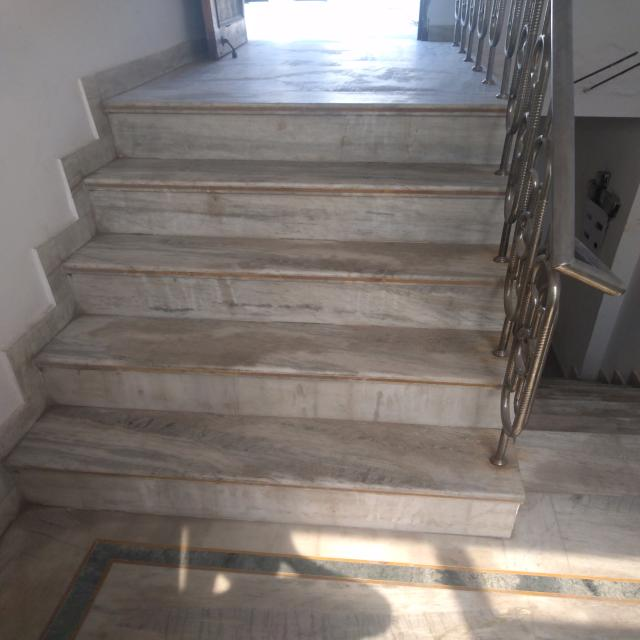Stairs: (78, 227, 500, 552)
